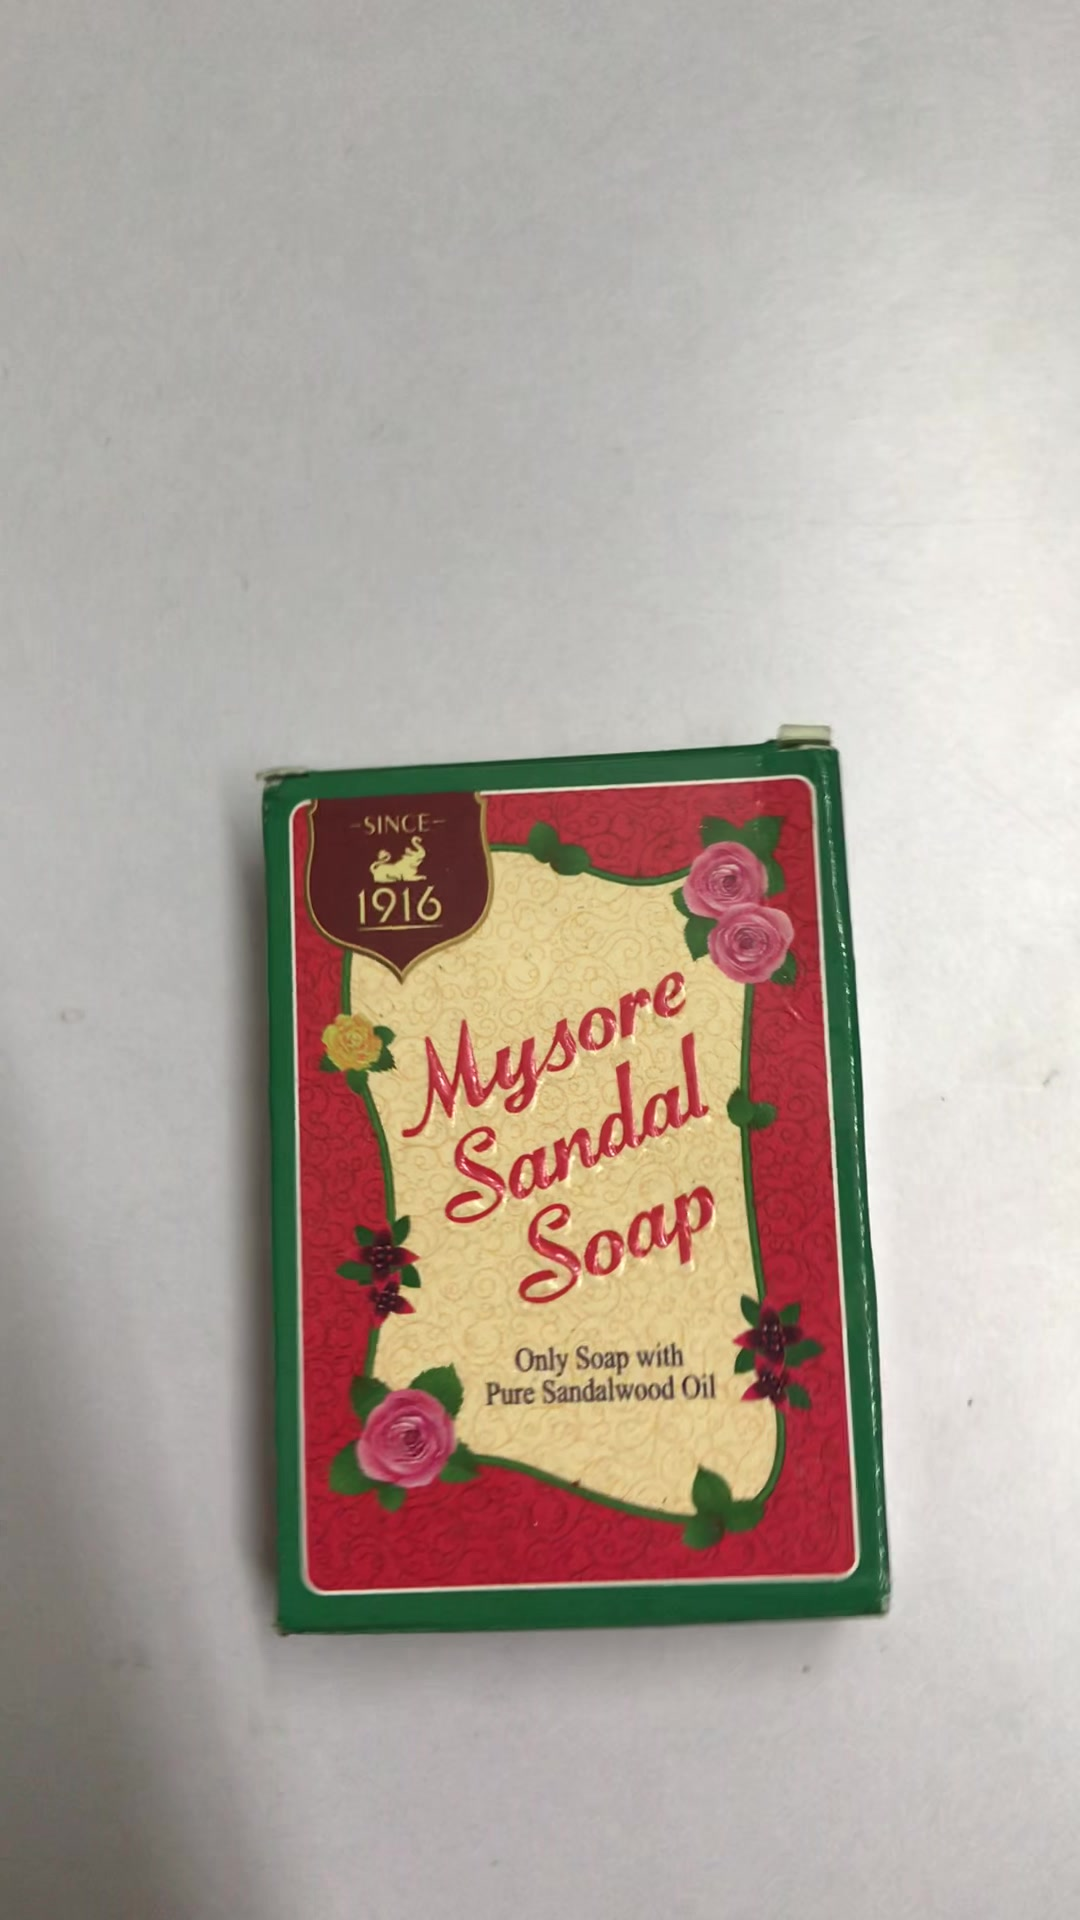mysore sandal soap: (272, 746, 884, 1606)
